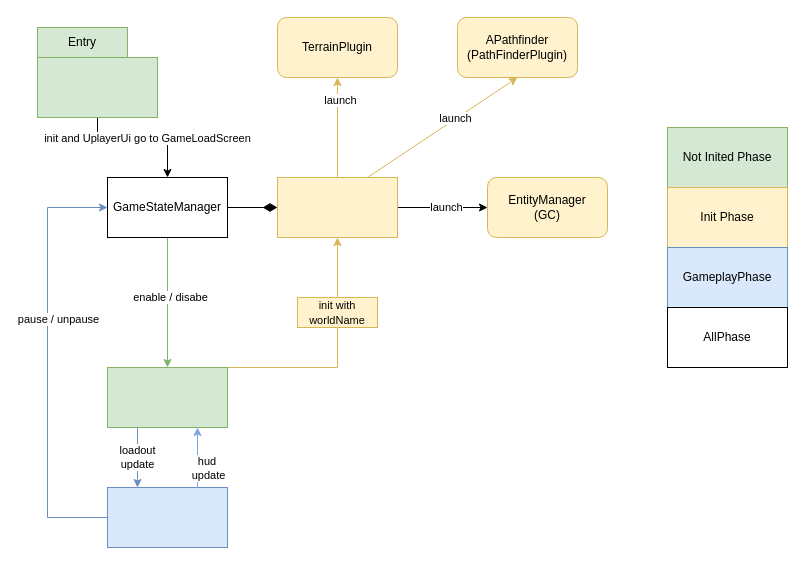
This 805x565 diagram has some shape labels left out. Here are the shapes that lost their labels. From the top down, the box of each, then its label:
(36, 56, 158, 118): AgameModeSubclass : public AGameModeBase
(276, 176, 398, 238): worldLevel
(106, 366, 228, 428): UPlayerUi
(106, 486, 228, 548): PlayerScript
